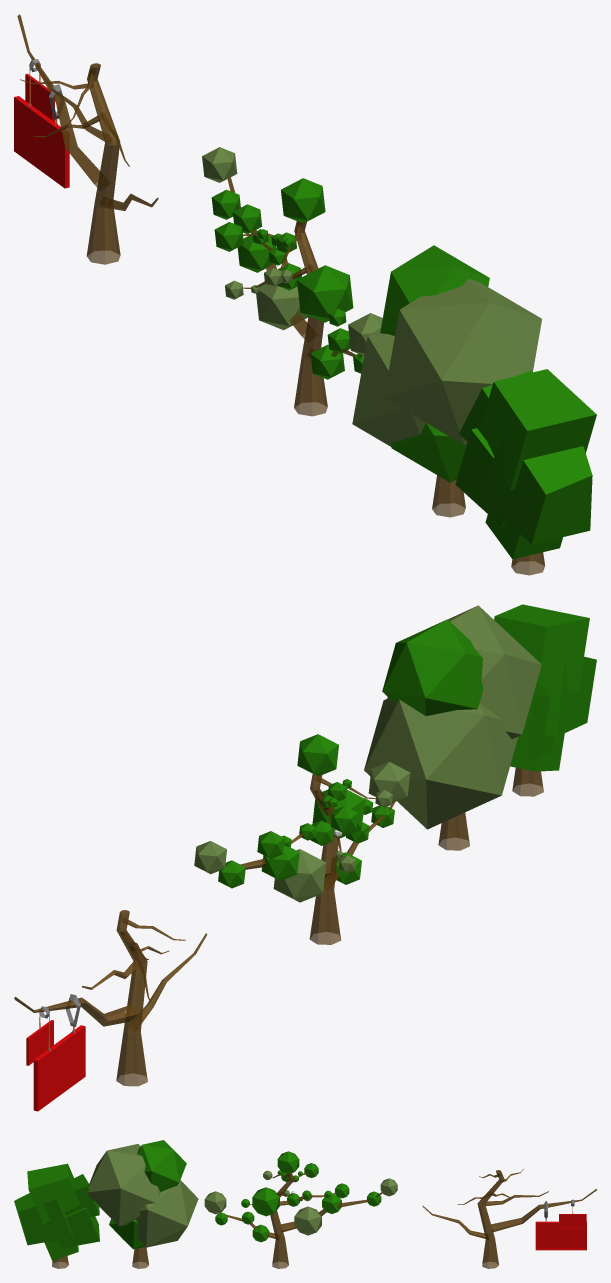
File: AGAC2_1.fbx
3 views of the same model, one above another, from view 1: azimuth 30°, elevation 25°; view 2: azimuth 150°, elevation 25°; view 3: azimuth 270°, elevation 25° (orthographic). The views are drawn at different scales.
Visible parts, largest first — view 1: Circle.002, Circle.001, Circle.003, Circle.004, Cube.005, Cube.006; view 2: Circle.002, Circle.003, Circle.001, Circle.004, Cube.005, Cube.006; view 3: Circle.002, Circle.001, Circle.003, Circle.004, Cube.005, Cube.006.
Boxes of the visible parts, x1=… form: Circle.002: x1=352, y1=245, x2=541, y2=517; Circle.001: x1=455, y1=369, x2=596, y2=575; Circle.003: x1=202, y1=147, x2=382, y2=416; Circle.004: x1=17, y1=14, x2=158, y2=264; Cube.005: x1=14, y1=96, x2=69, y2=188; Cube.006: x1=25, y1=73, x2=54, y2=121; Circle.002: x1=364, y1=605, x2=541, y2=850; Circle.003: x1=194, y1=734, x2=410, y2=944; Circle.001: x1=494, y1=604, x2=596, y2=796; Circle.004: x1=14, y1=910, x2=207, y2=1086; Cube.005: x1=33, y1=1025, x2=85, y2=1111; Cube.006: x1=26, y1=1020, x2=53, y2=1065; Circle.002: x1=87, y1=1140, x2=198, y2=1268; Circle.001: x1=14, y1=1163, x2=99, y2=1268; Circle.003: x1=204, y1=1151, x2=397, y2=1268; Circle.004: x1=422, y1=1169, x2=596, y2=1268; Cube.005: x1=535, y1=1221, x2=586, y2=1250; Cube.006: x1=559, y1=1214, x2=586, y2=1228.
Size of the model in its own units: 974 by 1521 by 6584.
